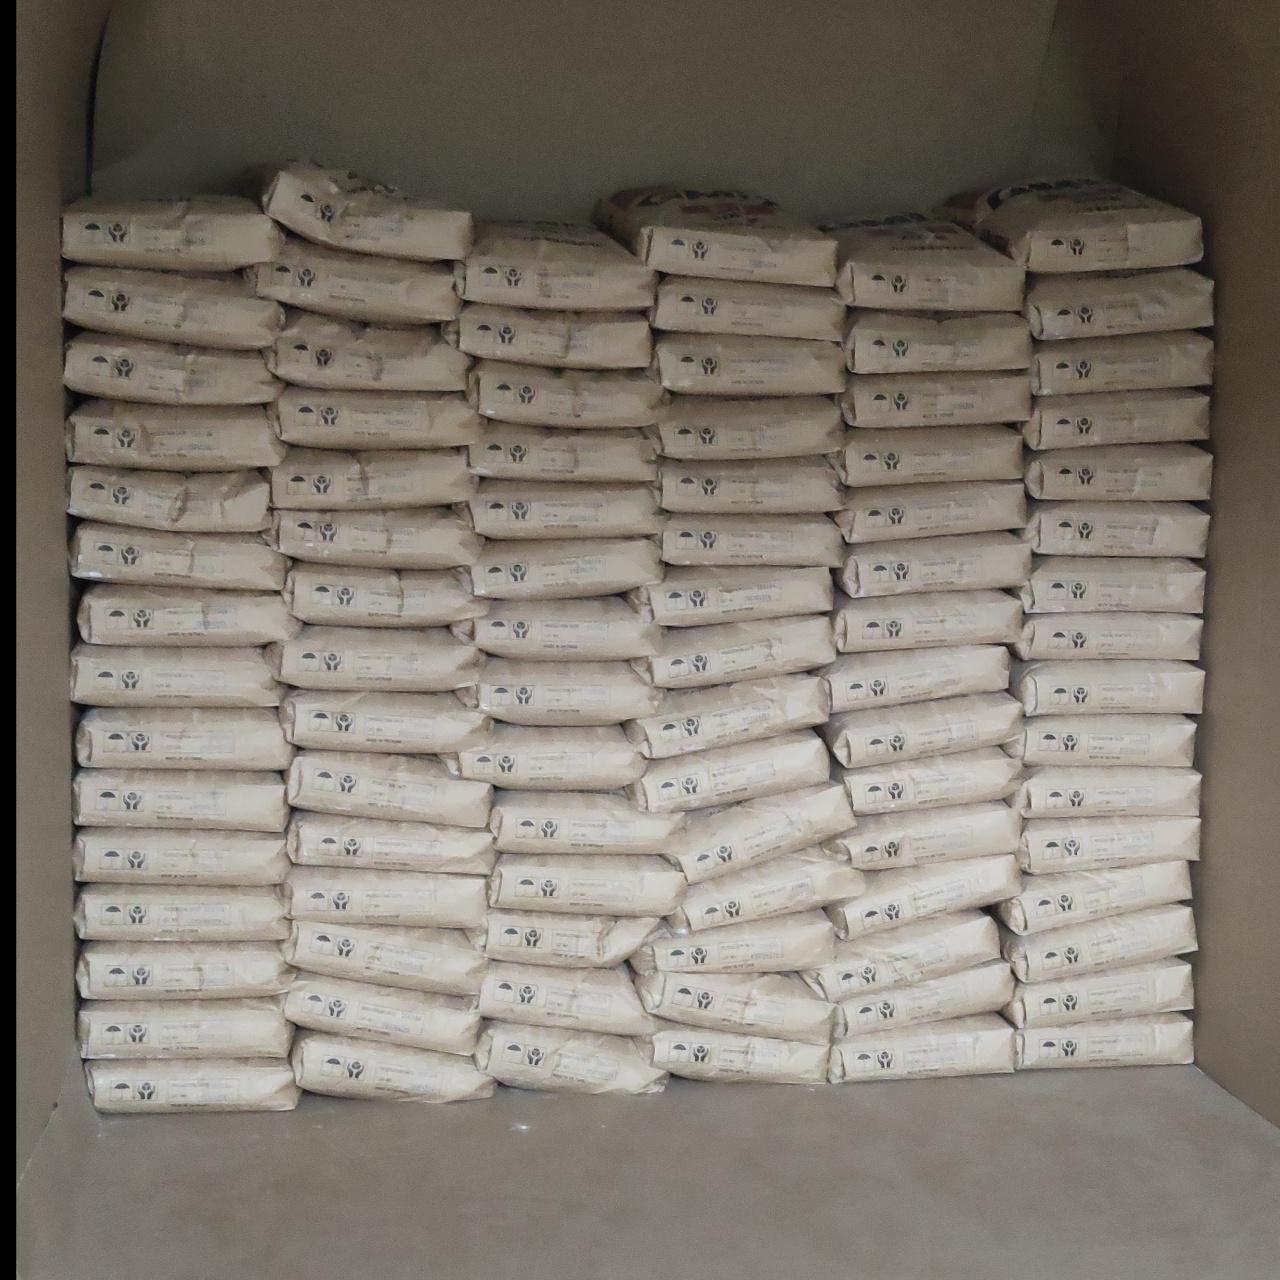sack: (934, 179, 1203, 273), (595, 188, 837, 284), (261, 164, 472, 259), (658, 782, 855, 883), (822, 215, 1022, 311), (244, 238, 459, 324), (801, 910, 1001, 1001), (63, 266, 282, 348), (451, 224, 656, 311), (267, 309, 472, 390), (626, 676, 828, 758), (64, 331, 284, 406), (62, 196, 284, 270), (828, 855, 1021, 939), (285, 974, 483, 1056), (627, 731, 828, 812), (667, 847, 864, 930), (287, 750, 491, 829), (66, 399, 284, 470), (72, 520, 290, 591), (826, 692, 1021, 768), (631, 615, 835, 688), (1002, 907, 1196, 982), (286, 921, 484, 994), (833, 960, 1014, 1040), (263, 626, 485, 690), (291, 1032, 493, 1102), (475, 1020, 666, 1094), (457, 658, 663, 726), (440, 723, 648, 790), (999, 862, 1190, 934), (441, 304, 652, 369), (72, 768, 288, 831), (450, 595, 662, 660), (68, 465, 271, 532), (79, 584, 300, 645), (76, 708, 293, 770), (1002, 958, 1193, 1028), (469, 360, 669, 427), (822, 802, 1022, 869), (284, 561, 488, 627), (636, 971, 833, 1039), (265, 508, 484, 568), (70, 644, 285, 706), (79, 996, 293, 1058), (828, 1014, 1019, 1083), (1026, 268, 1213, 339), (818, 645, 1012, 713), (268, 387, 478, 449), (632, 910, 835, 973), (271, 447, 477, 509), (77, 940, 295, 999), (652, 275, 845, 341), (282, 690, 486, 753), (478, 964, 655, 1035), (287, 812, 493, 873), (839, 532, 1032, 597), (835, 747, 1019, 813), (489, 791, 685, 853), (73, 884, 288, 940), (74, 828, 288, 884), (286, 867, 486, 927), (629, 567, 833, 626), (489, 855, 685, 915), (828, 425, 1023, 486), (1029, 332, 1212, 396), (835, 482, 1027, 543), (651, 399, 840, 459), (832, 591, 1022, 652), (84, 1058, 299, 1112), (653, 333, 845, 393), (462, 540, 660, 598), (459, 482, 660, 538), (845, 311, 1029, 372), (467, 422, 655, 481), (467, 910, 659, 967), (1024, 389, 1208, 449), (1016, 502, 1210, 558), (1024, 443, 1211, 501), (638, 1026, 828, 1082), (1020, 557, 1205, 614), (1017, 816, 1200, 873), (840, 372, 1029, 427), (1012, 662, 1203, 716), (1015, 1013, 1193, 1069), (1010, 765, 1200, 818), (660, 458, 840, 512), (1003, 715, 1196, 765), (658, 515, 840, 567), (1014, 613, 1201, 660)
